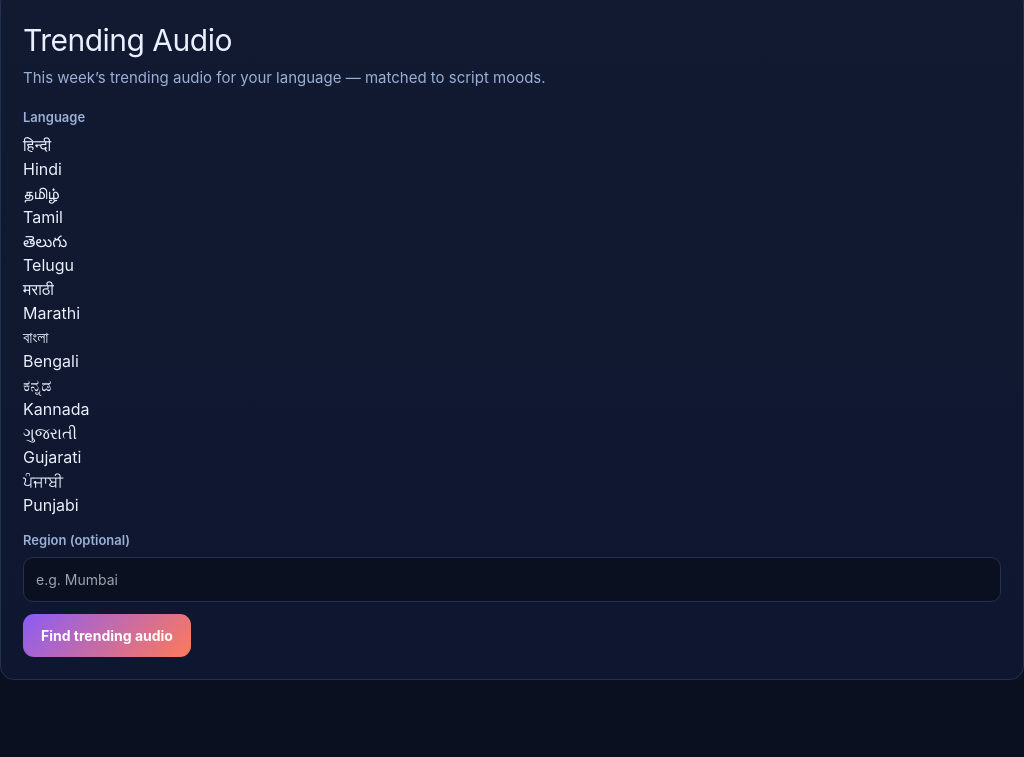
Test: <AudioClient> › loads + renders trending audio rows
Click the button "Find trending audio".
click(107, 635)  # box [23,614,191,656]
(page scrolled)
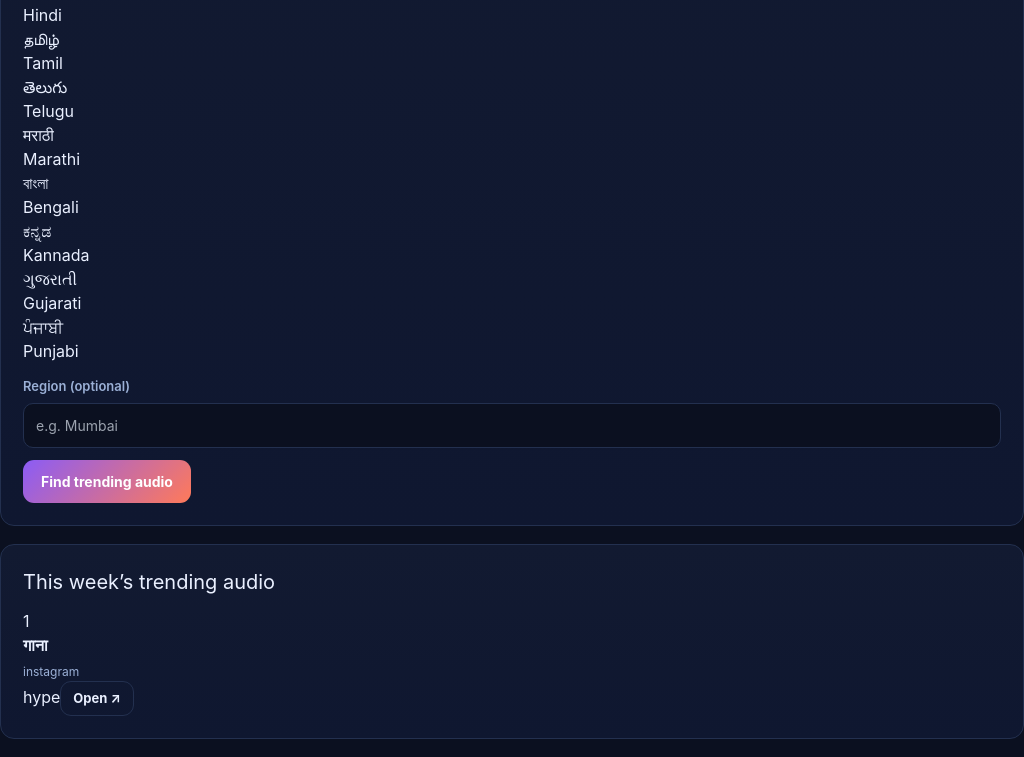
Now the text "गाना" is shown, box [23,634,48,654]
Now the text "hype" is shown, box [23,686,60,706]
